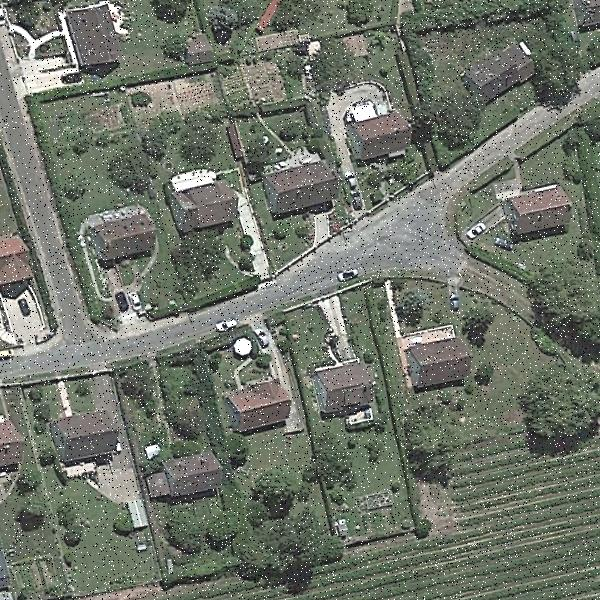Buildings: (223, 378, 294, 430), (177, 168, 239, 224), (470, 42, 536, 94), (412, 336, 475, 385), (66, 1, 116, 61), (86, 217, 160, 256), (151, 460, 216, 503), (350, 102, 410, 148), (270, 168, 332, 212), (318, 362, 374, 409), (0, 230, 33, 296), (56, 420, 120, 452), (516, 192, 572, 228), (0, 417, 26, 471), (567, 0, 600, 31)
